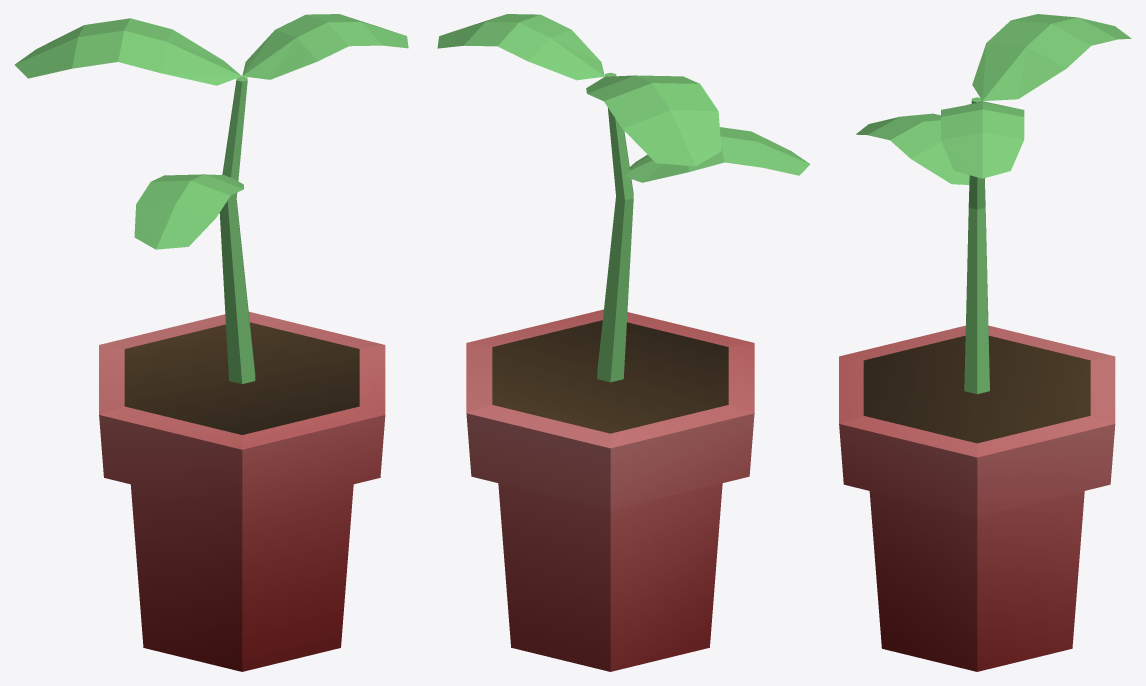
The model's file is pianta_1.fbx.
3 views of the same model, side by side, from view 1: azimuth 30°, elevation 25°; view 2: azimuth 150°, elevation 25°; view 3: azimuth 270°, elevation 25° (orthographic). The views are drawn at different scales.
Visible parts, largest first — view 1: pCylinder2; view 2: pCylinder2; view 3: pCylinder2.
Boxes of the visible parts, x1=… form: pCylinder2: x1=14, y1=14, x2=408, y2=671; pCylinder2: x1=437, y1=14, x2=810, y2=671; pCylinder2: x1=839, y1=14, x2=1131, y2=671.
Bounding box in the file's own units: 126 × 213 × 100.
